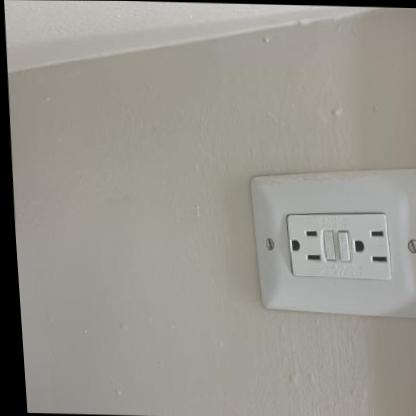OUTLET: (247, 174, 416, 316)
